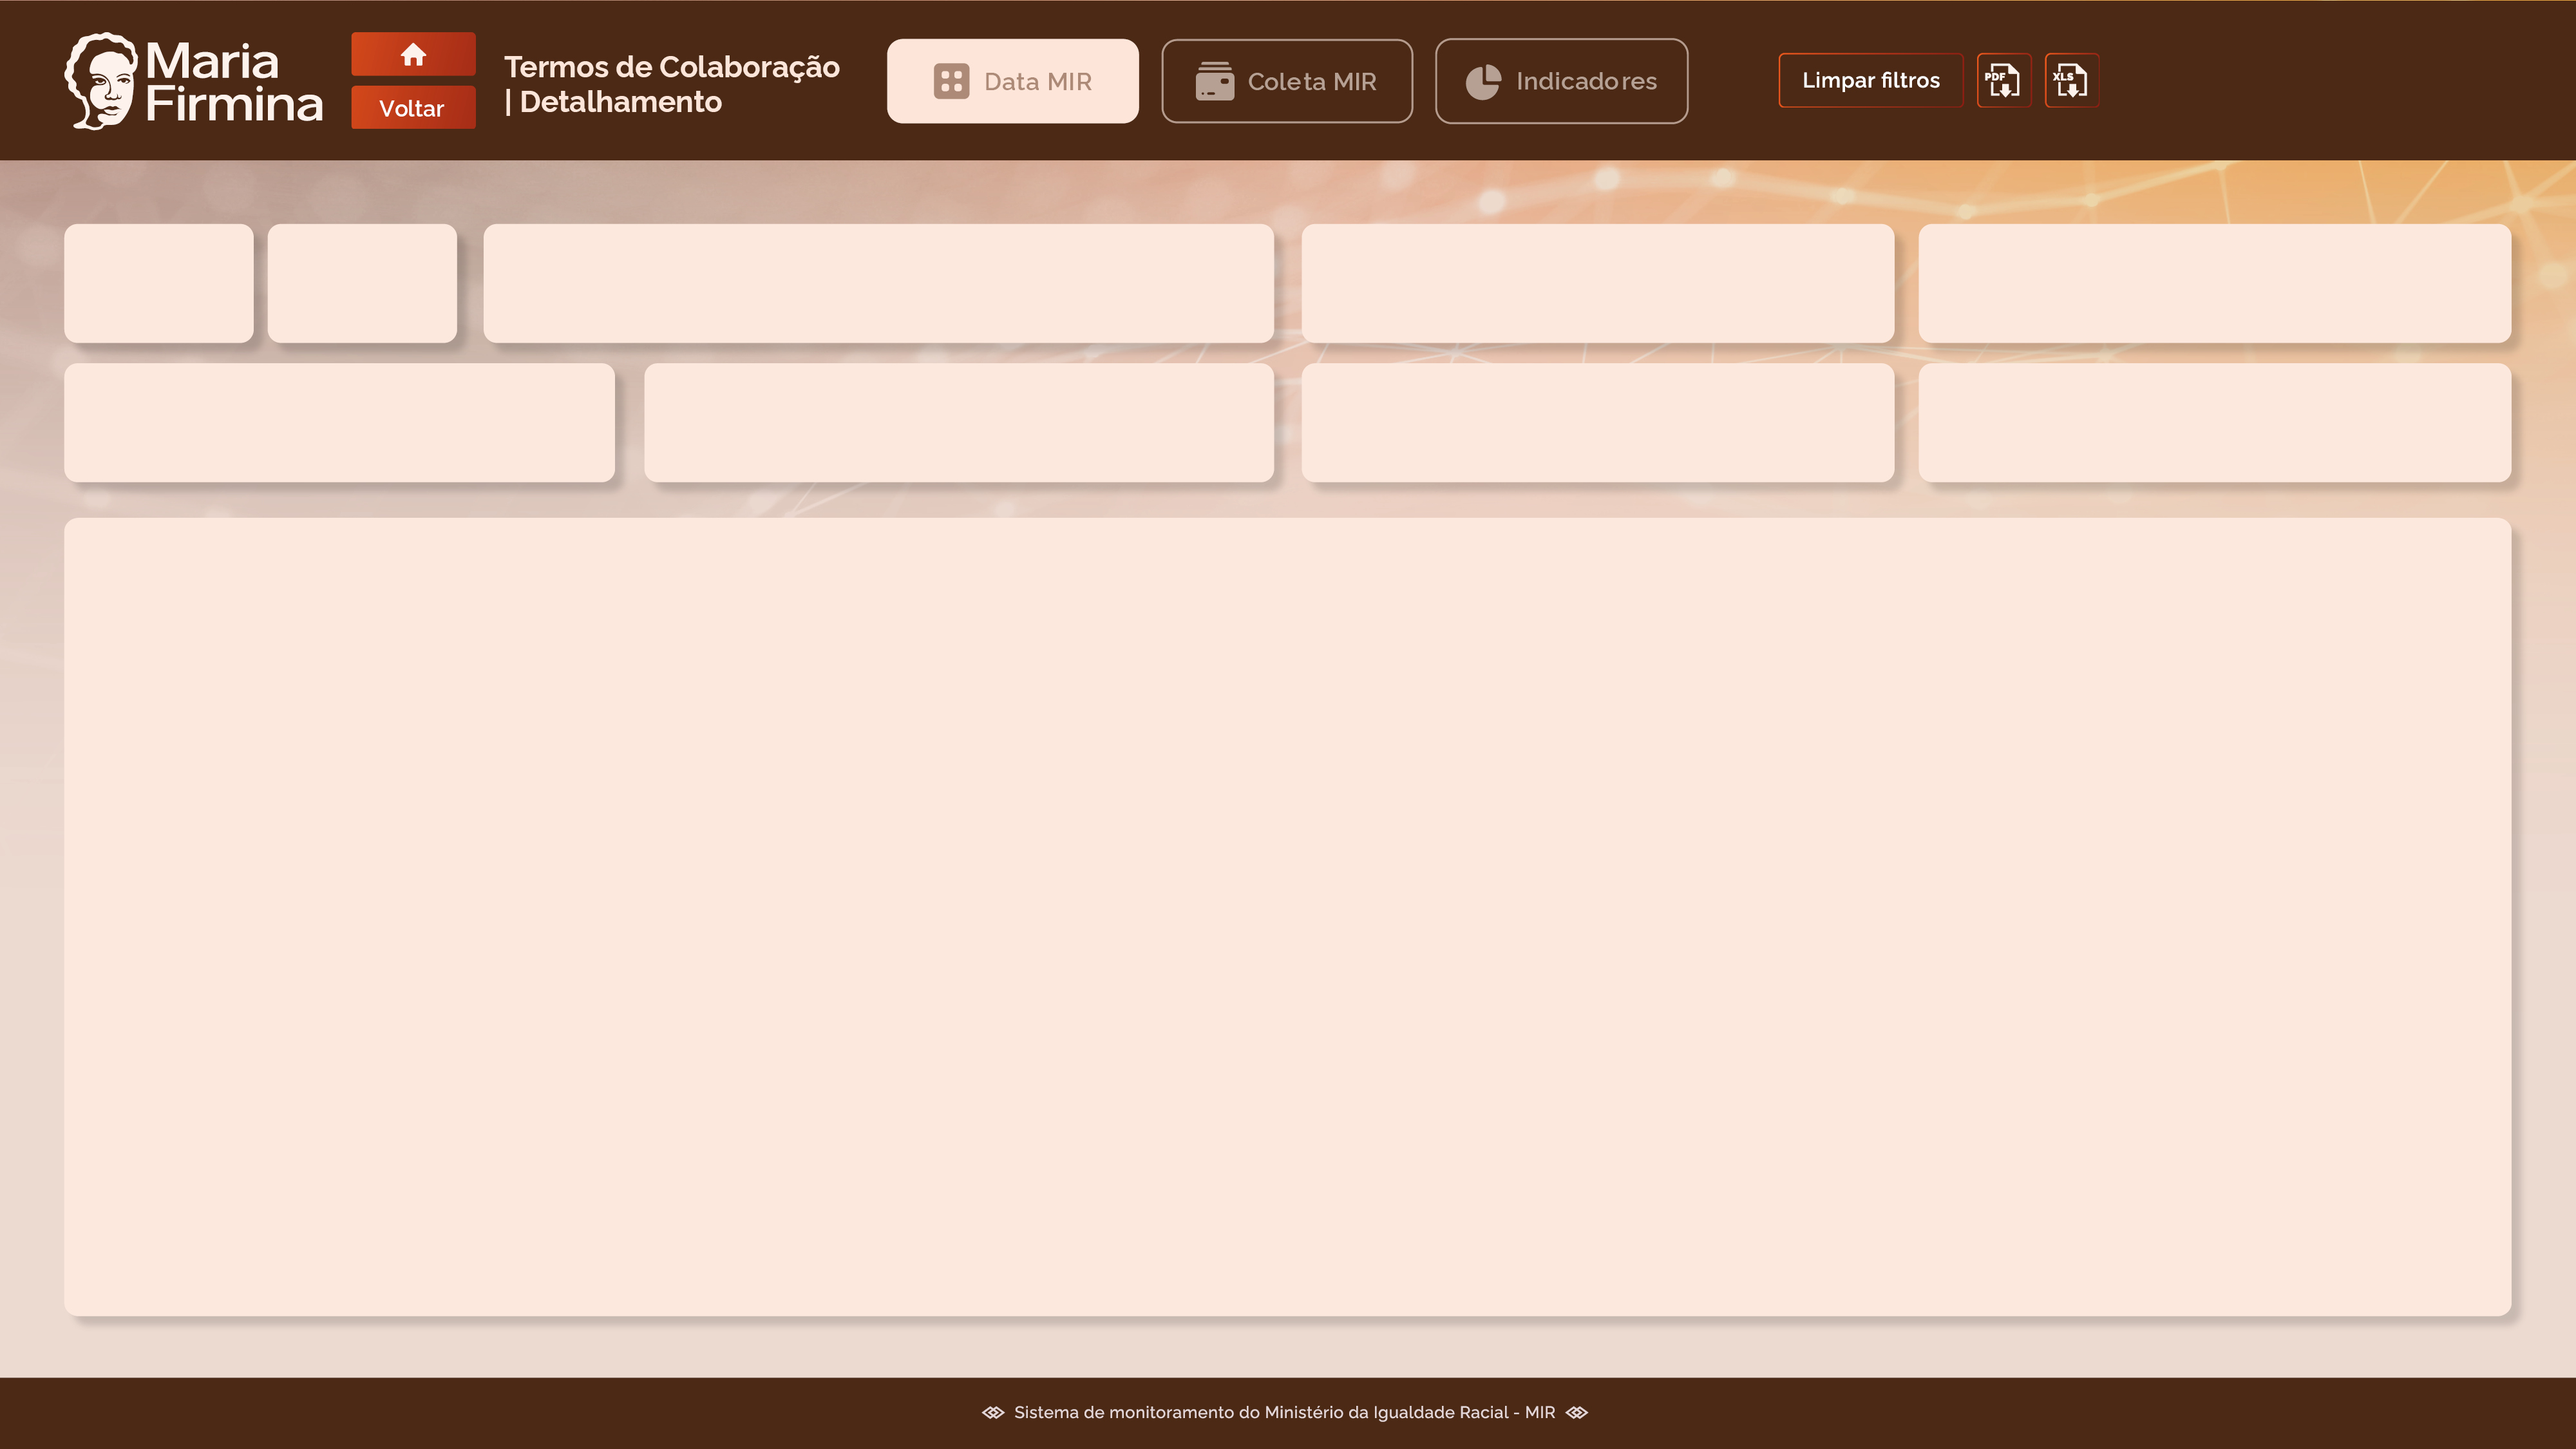

This screenshot's page, from the dashboard's own definition file:
{"tool":"powerbi","page":{"name":"Termos de Colaboração","canvas":[1920,1080],"ordinal":19},"visuals":[{"type":"tableEx","fields":{"Values":["resumo_convenios.data_assinatura.Variation.Hierarquia de datas.Ano","resumo_convenios.nr_convenio","resumo_convenios.situacao_atual","resumo_convenios.modalidade_instrumento","resumo_convenios.uf_execucao","resumo_convenios.categoria_convenente","resumo_convenios.nome_convenente","resumo_convenios.objeto","resumo_convenios.data_assinatura","resumo_convenios.inicio_vigencia","resumo_convenios.fim_vigencia","Sum(resumo_convenios.valor_empenhado)"]},"box":[54.3,392.9,1817.1,584.3],"z":0},{"type":"slicer","fields":{"Values":["resumo_convenios.nr_convenio"]},"box":[977.1,174.3,440,78.6],"z":1000},{"type":"slicer","fields":{"Values":["resumo_convenios.situacao_atual"]},"box":[484.3,272.9,464.3,85.7],"z":2000},{"type":"slicer","fields":{"Values":["resumo_convenios.uf_execucao"]},"box":[977.1,272.9,437.1,85.7],"z":3000},{"type":"slicer","fields":{"Values":["resumo_convenios.nome_convenente"]},"box":[48.6,272.9,405.7,85.7],"z":4000},{"type":"slicer","fields":{"Values":["resumo_convenios.parlamentares"]},"box":[1431.4,174.3,440,78.6],"z":5000},{"type":"slicer","fields":{"Values":["resumo_convenios.categoria_convenente"]},"box":[364.3,174.3,584.3,78.6],"z":6000},{"type":"slicer","fields":{"Values":["resumo_convenios.data_assinatura.Variation.Hierarquia de datas.Ano"]},"box":[48.6,175.7,138.6,77.1],"z":8000},{"type":"slicer","fields":{"Values":["resumo_convenios.data_assinatura.Variation.Hierarquia de datas.Ano"]},"box":[204.3,174.3,134.3,78.6],"z":9000},{"type":"textbox","box":[44.3,991.4,773.6,27.4],"z":10000},{"type":"slicer","fields":{"Values":["resumo_convenios.municipio_execucao"]},"box":[1431.4,272.9,440,85.7],"z":11000},{"type":"actionButton","box":[261.5,62,94.3,32.9],"z":12000},{"type":"actionButton","box":[261.7,22.8,92.2,33.3],"z":13000},{"type":"textbox","box":[1642.6,29.3,167.6,71.8],"z":14000},{"type":"actionButton","box":[1326.7,40.7,137.8,38.9],"z":15000},{"type":"image","box":[1820,42,53.3,37.8],"z":16000},{"type":"actionButton","box":[661.3,28.7,187.3,62.7],"z":17000},{"type":"actionButton","box":[866,28.7,187.3,62.7],"z":18000},{"type":"actionButton","box":[1069.3,30,187.3,62.7],"z":19000},{"type":"pageNavigator","box":[48.8,128.8,800,27.5],"z":20000}]}

Visuals, with their boxes in screenshot pixels (x1, y1, x2, y2), scaled from the page's 1920x1080 canvas onto the 2576x1449 screenshot:
tableEx - resumo_convenios.data_assinatura.Variation.Hierarquia de datas.Ano x resumo_convenios.nr_convenio: bbox(73, 527, 2511, 1311)
slicer - resumo_convenios.nr_convenio: bbox(1311, 234, 1901, 339)
slicer - resumo_convenios.situacao_atual: bbox(650, 366, 1273, 481)
slicer - resumo_convenios.uf_execucao: bbox(1311, 366, 1897, 481)
slicer - resumo_convenios.nome_convenente: bbox(65, 366, 609, 481)
slicer - resumo_convenios.parlamentares: bbox(1920, 234, 2511, 339)
slicer - resumo_convenios.categoria_convenente: bbox(489, 234, 1273, 339)
slicer - resumo_convenios.data_assinatura.Variation.Hierarquia de datas.Ano: bbox(65, 236, 251, 339)
slicer - resumo_convenios.data_assinatura.Variation.Hierarquia de datas.Ano: bbox(274, 234, 454, 339)
textbox: bbox(59, 1330, 1097, 1367)
slicer - resumo_convenios.municipio_execucao: bbox(1920, 366, 2511, 481)
actionButton: bbox(351, 83, 477, 128)
actionButton: bbox(351, 31, 475, 75)
textbox: bbox(2204, 39, 2429, 136)
actionButton: bbox(1780, 55, 1965, 107)
image: bbox(2442, 57, 2514, 107)
actionButton: bbox(887, 39, 1139, 122)
actionButton: bbox(1162, 39, 1413, 122)
actionButton: bbox(1435, 41, 1686, 124)
pageNavigator: bbox(66, 173, 1139, 210)
